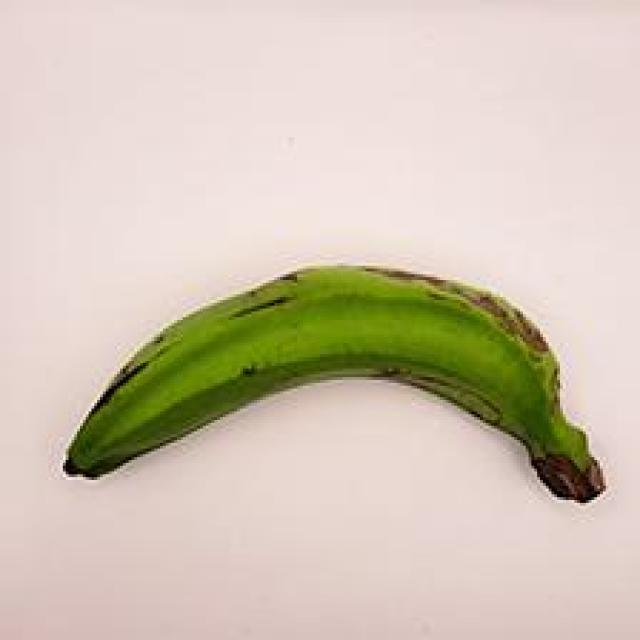Raw: (45, 218, 612, 546)
